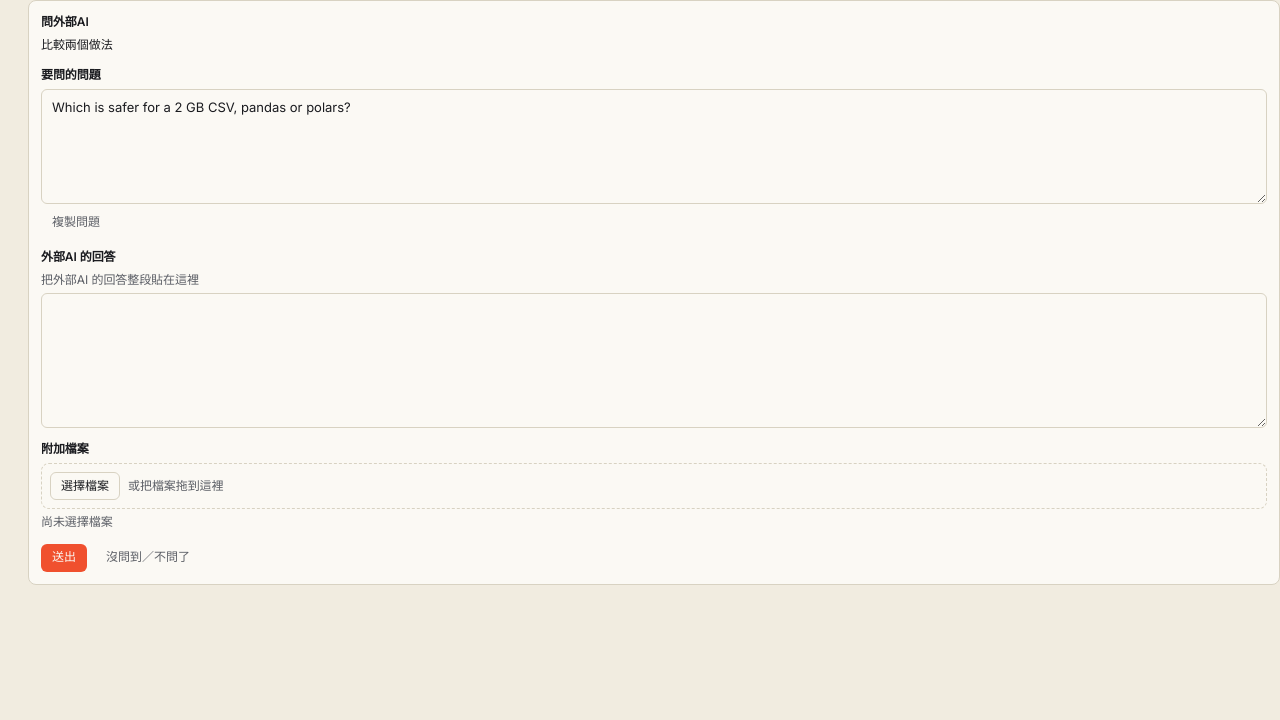
Test: asking it by hand (D9) › copies the question as it stands in the box
Replace the text in the text box labelled "要問的問題" with "edited?": (654, 147) [41,89,1267,204]
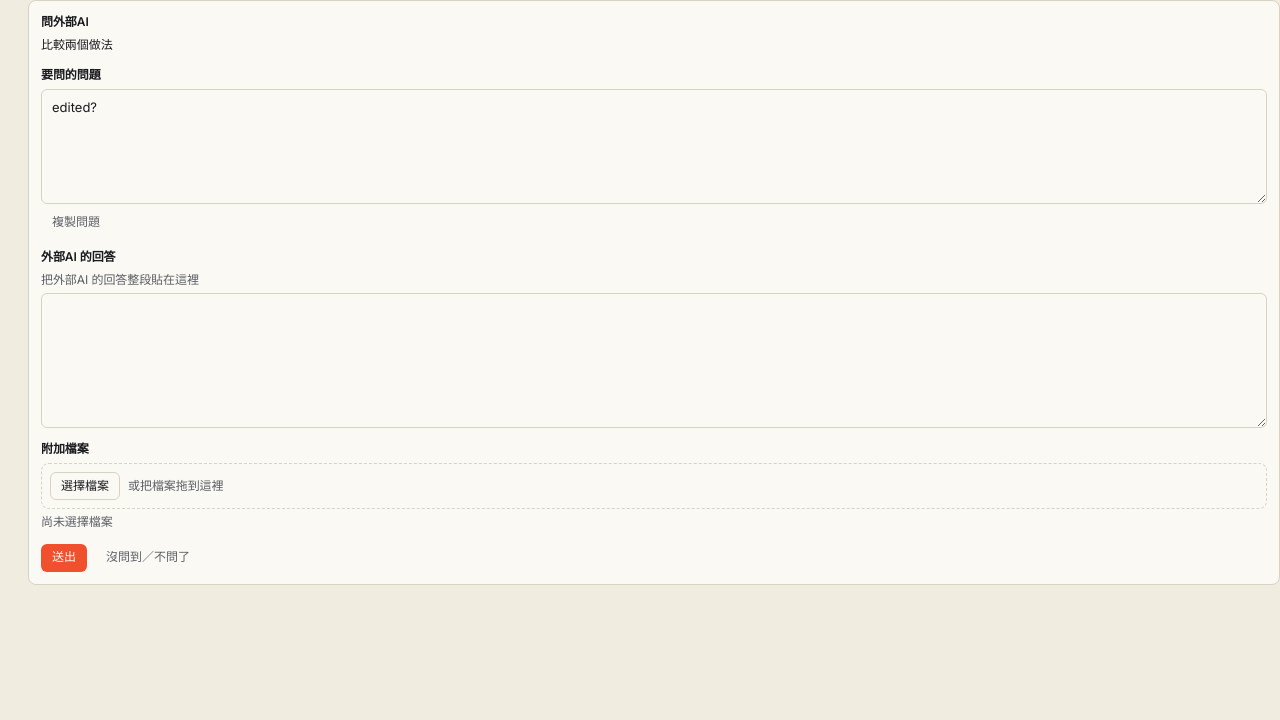
Click the button "複製問題": (76, 222) [41,208,111,236]
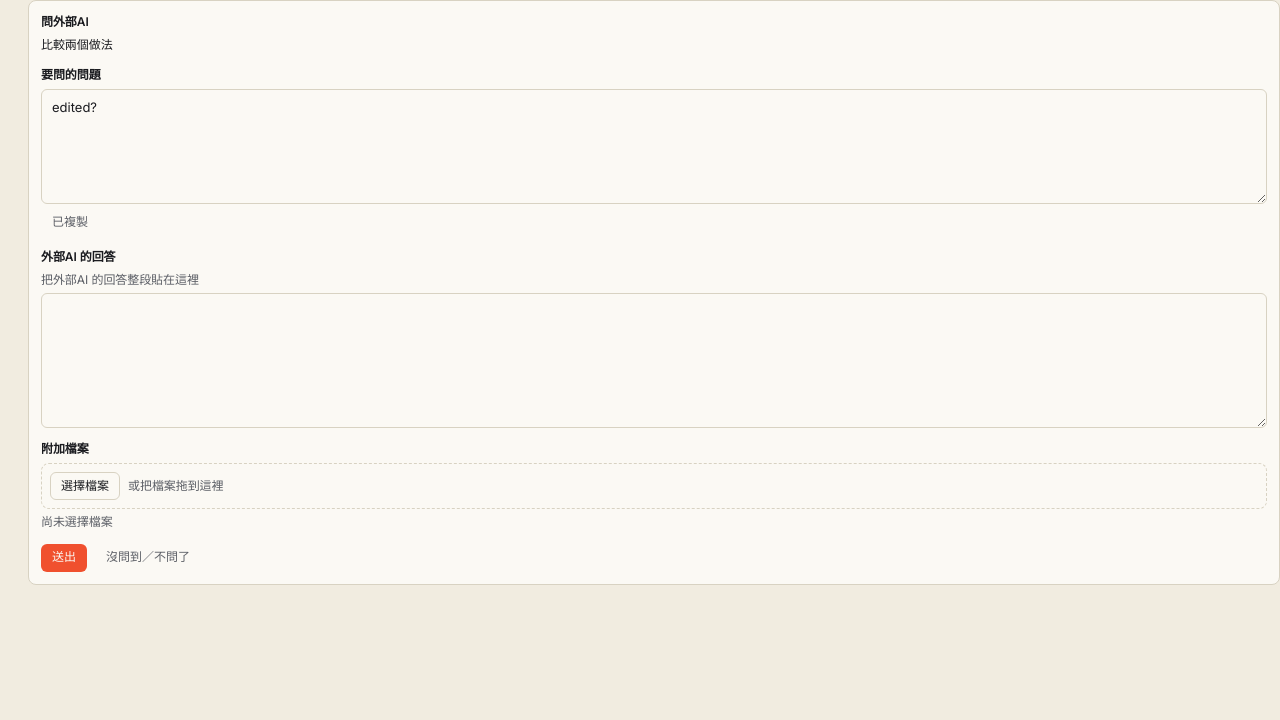
Result: the button "已複製" is shown at [41,208,99,236]
